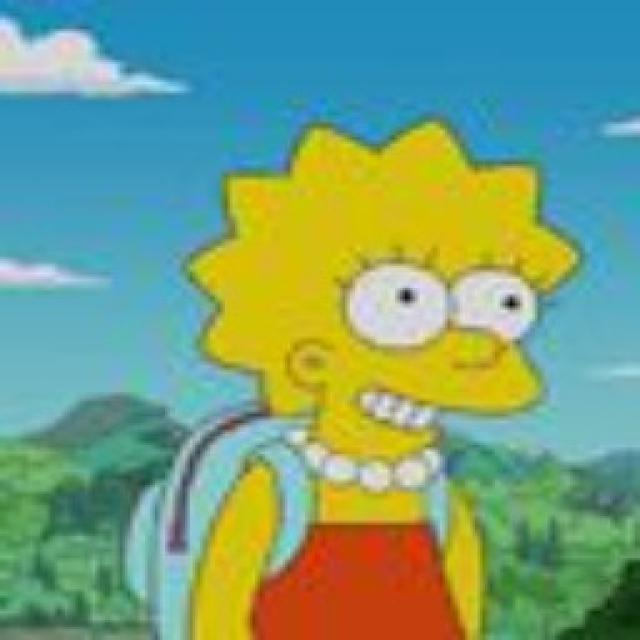Lisa Simpson: (179, 115, 591, 470)
